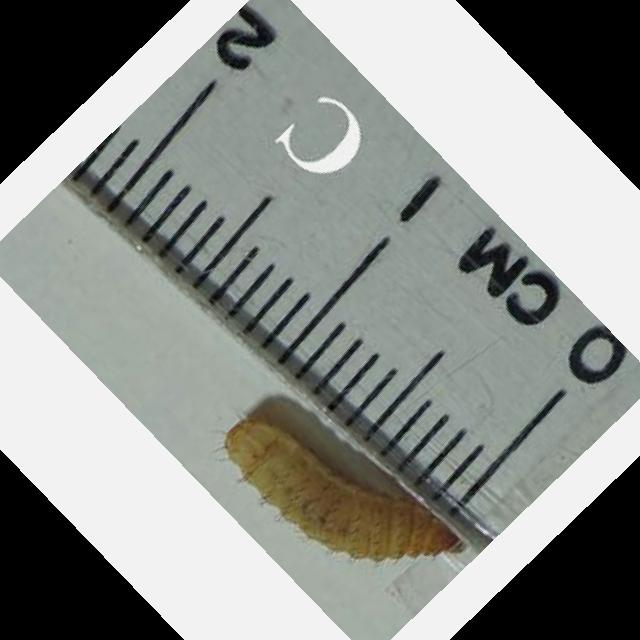Maggot: (223, 419, 464, 562)
